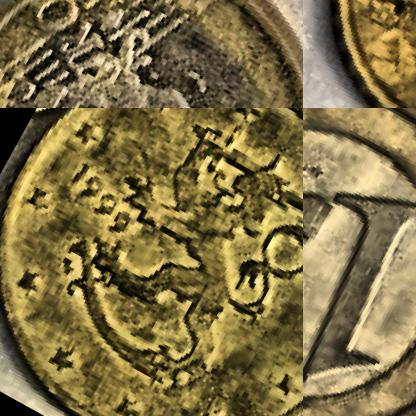coin: (0, 108, 302, 415), (303, 108, 415, 415), (0, 0, 302, 107), (303, 0, 415, 107)
